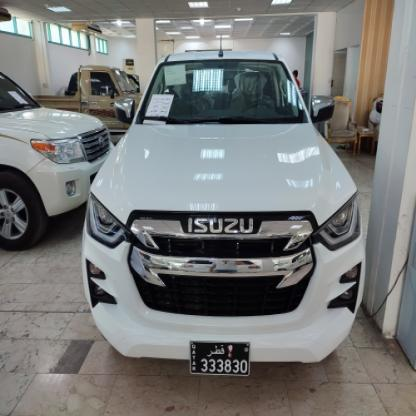np: (189, 338, 251, 380)
